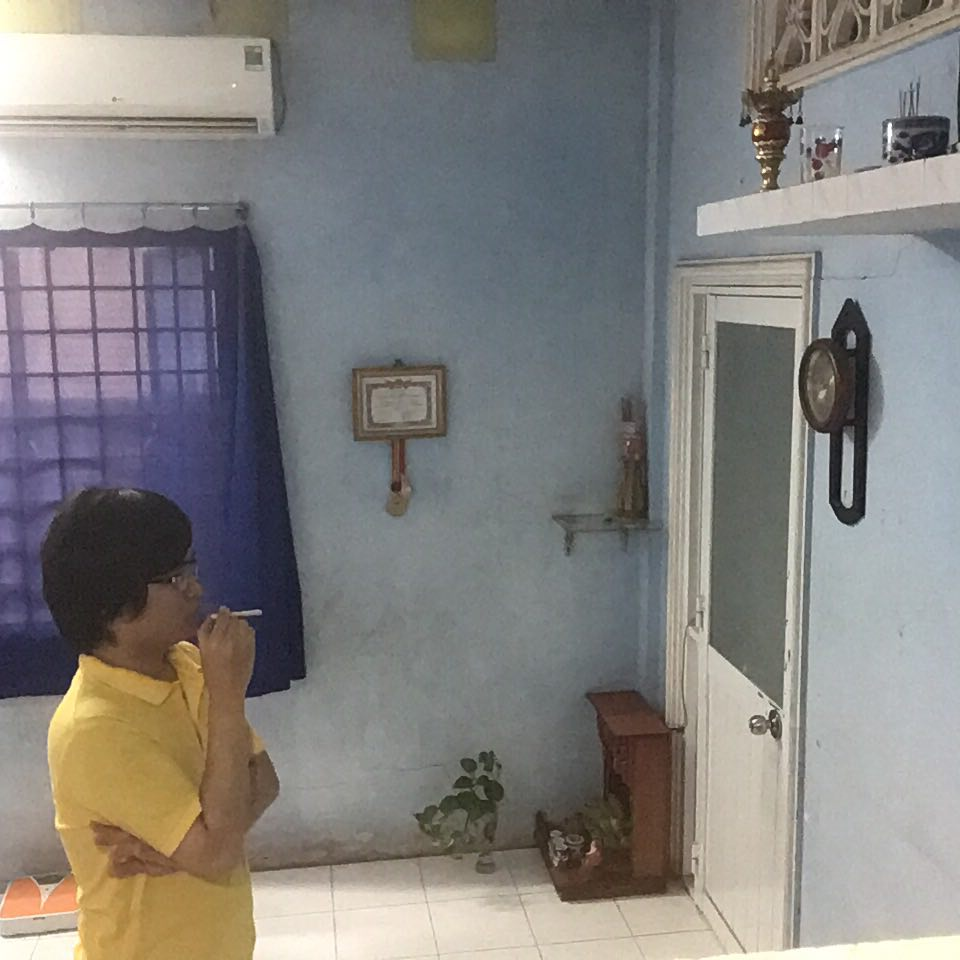cigarette: (234, 604, 267, 622)
person: (35, 487, 286, 960)
